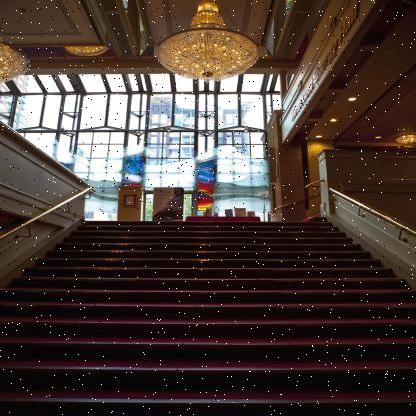stair: (17, 204, 416, 416)
